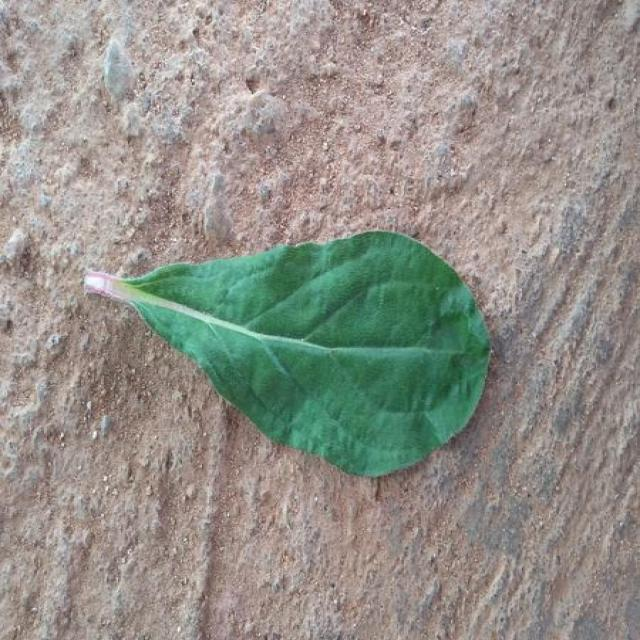globe amarnath: (85, 231, 490, 476)
